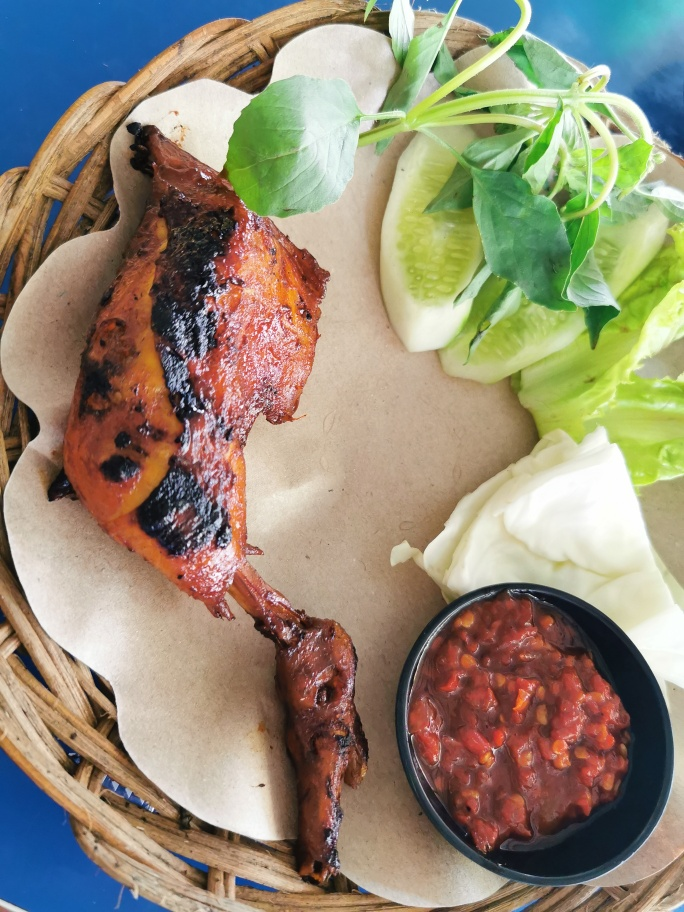ayam bakar: (50, 116, 411, 886)
